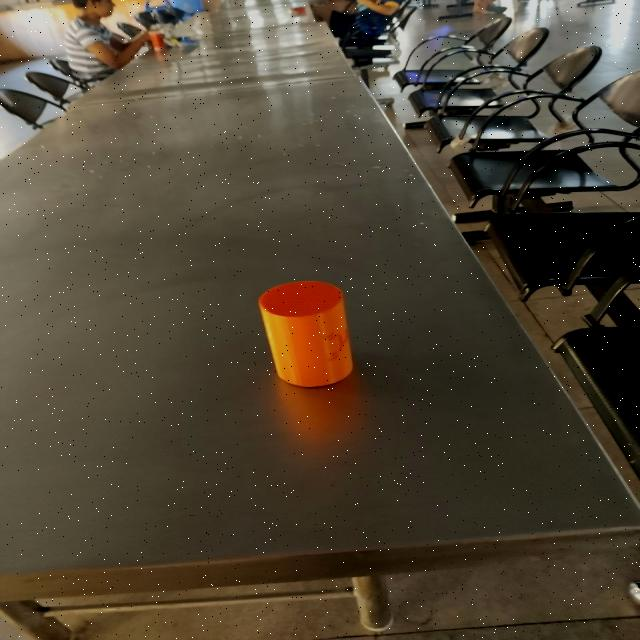Cylinder: (258, 280, 355, 388)
